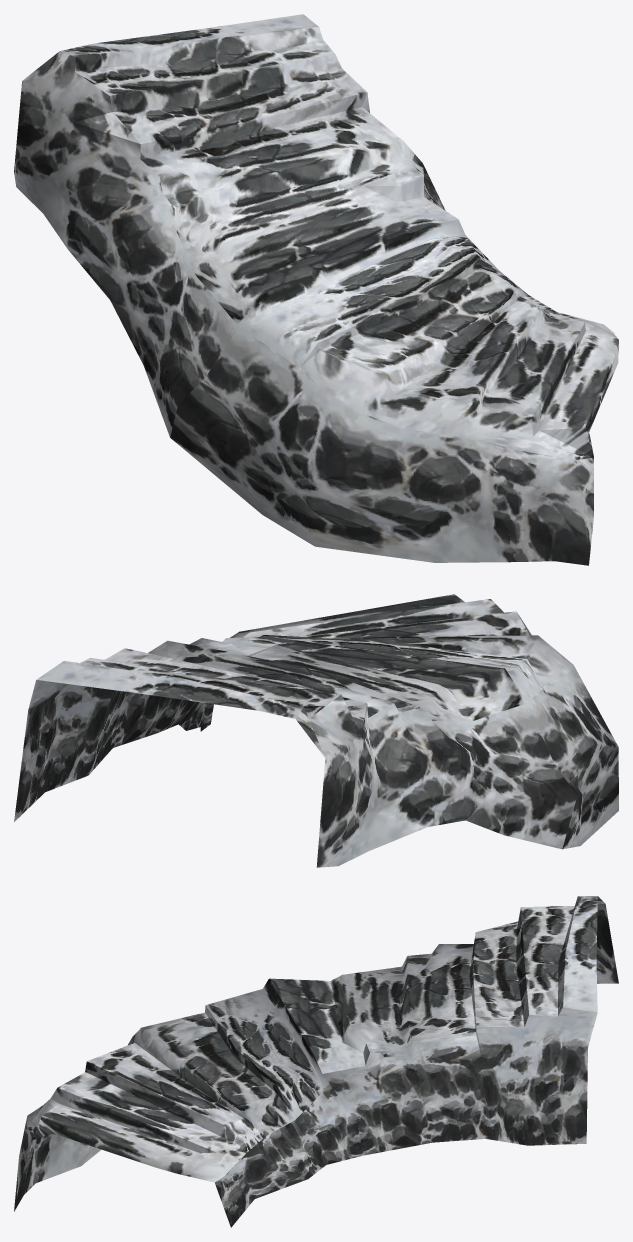
The model's file is 2005_Item_louti_1.FBX.
3 views of the same model, one above another, from view 1: azimuth 30°, elevation 25°; view 2: azimuth 150°, elevation 25°; view 3: azimuth 270°, elevation 25° (orthographic). The views are drawn at different scales.
Visible parts, largest first — view 1: 2005_Item_louti_1; view 2: 2005_Item_louti_1; view 3: 2005_Item_louti_1.
Boxes of the visible parts, x1,y1,x2,y2 form: 2005_Item_louti_1: [14, 14, 618, 565]; 2005_Item_louti_1: [14, 594, 618, 867]; 2005_Item_louti_1: [14, 896, 618, 1227].
Size of the model in its own units: 232 by 168 by 372.
